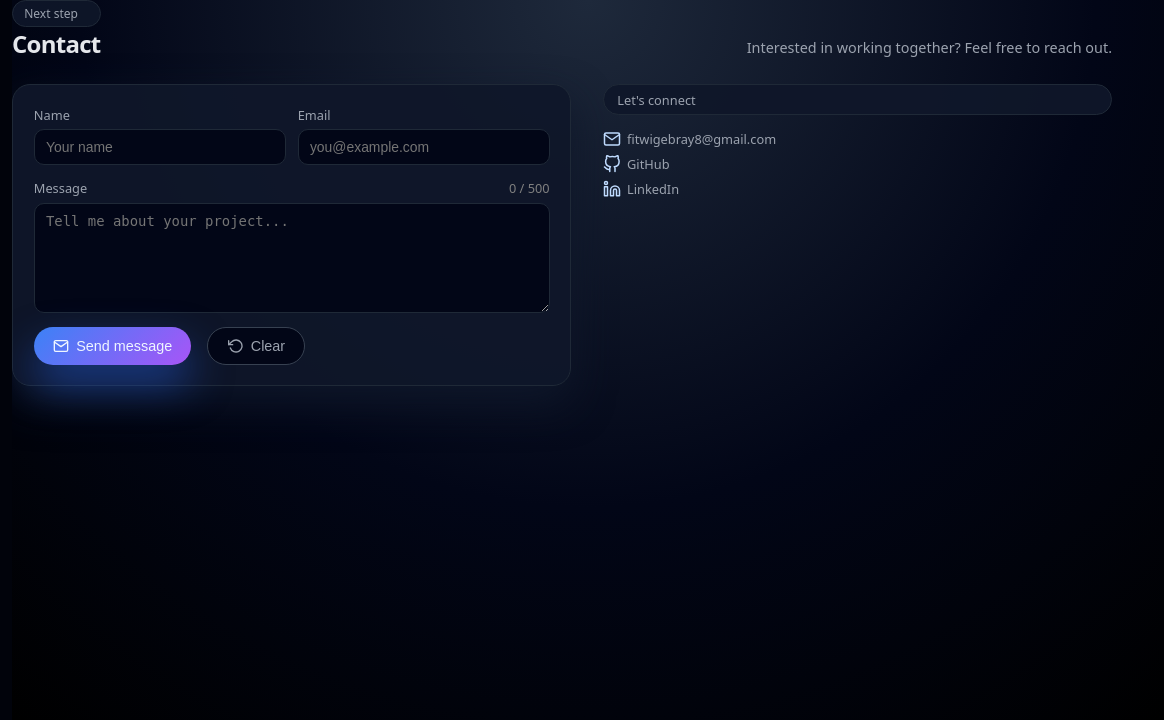
Scenario: Contact Component › updates character counter as user types
Type "Hello World" into the text box with placeholder "Tell me about your project...".
click(292, 258); type("Hello World")  # box [34, 203, 550, 313]
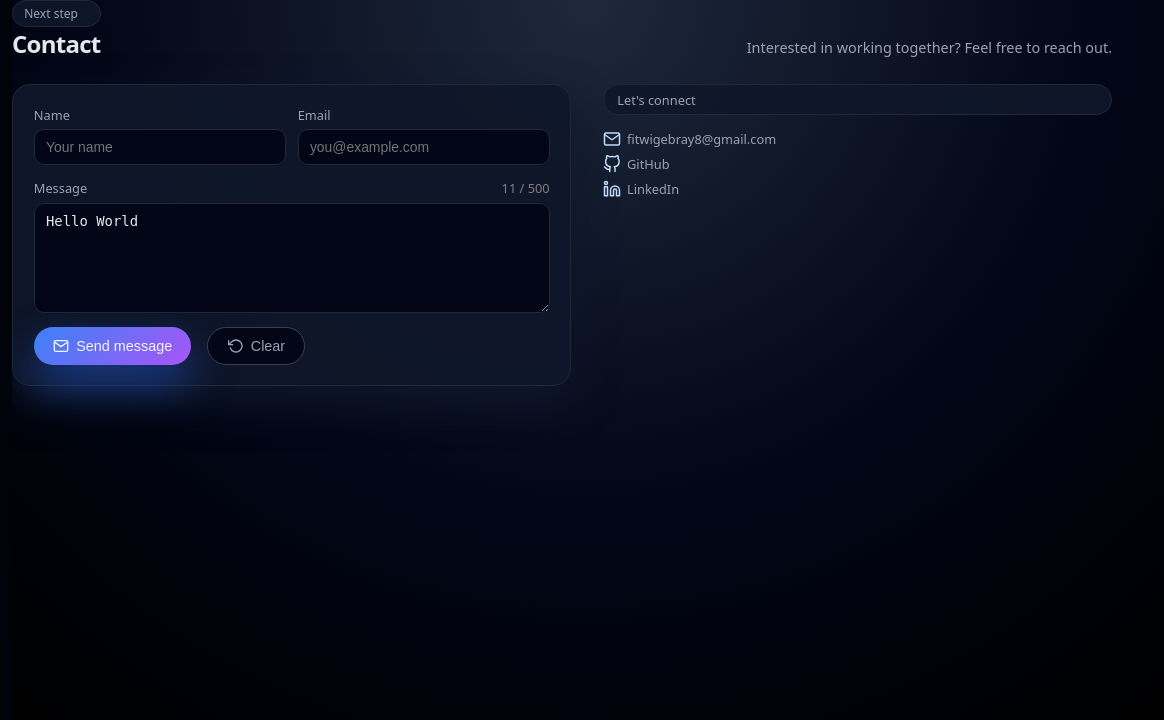
Now the text "11 / 500" is shown, box [502, 179, 550, 197]
